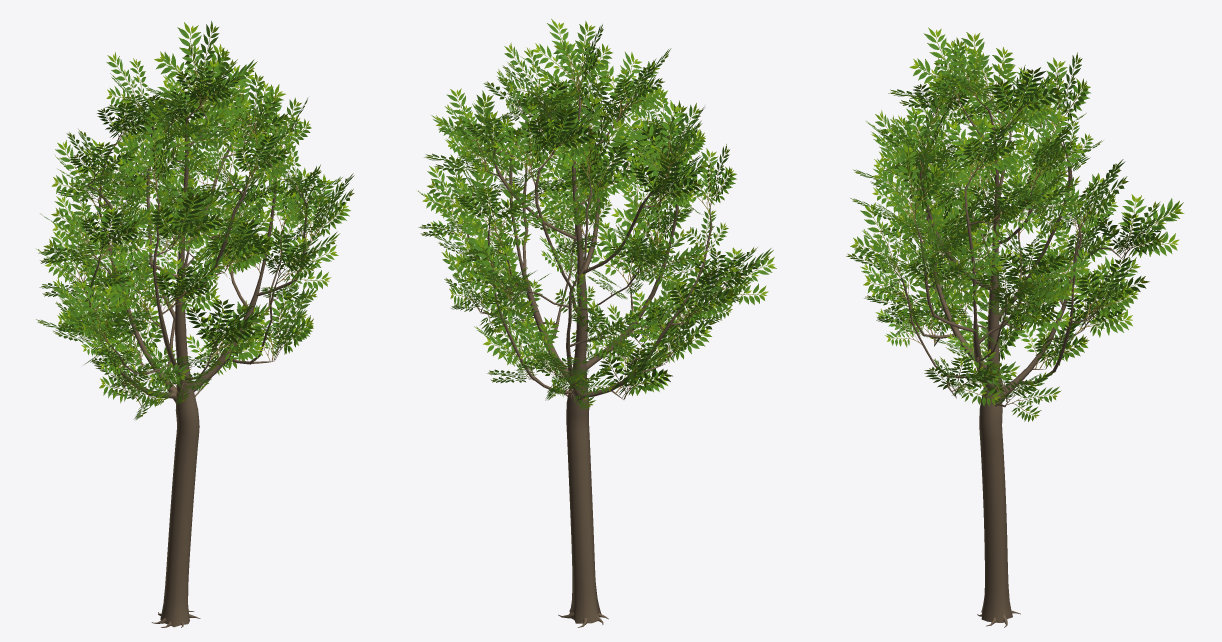
Rendered from corealm_ash_1.glb.
3 views of the same model, side by side, from view 1: azimuth 30°, elevation 25°; view 2: azimuth 150°, elevation 25°; view 3: azimuth 270°, elevation 25° (orthographic).
Parts seen in each view (by area): view 1: corealm_ash_1; view 2: corealm_ash_1; view 3: corealm_ash_1.
Part boxes in pixels (x1=…): corealm_ash_1: x1=36, y1=21, x2=354, y2=627; corealm_ash_1: x1=418, y1=18, x2=776, y2=627; corealm_ash_1: x1=846, y1=27, x2=1184, y2=627.
Size of the model in its own units: 6.06 by 10.21 by 6.03.
Materials: 2 (1 with a texture image).
